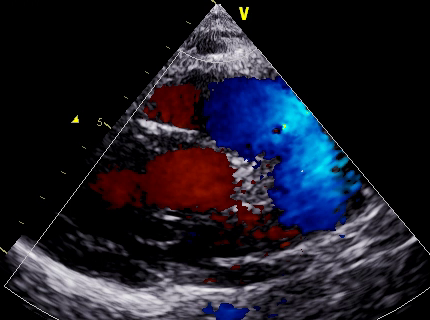AR: (147, 140, 256, 219)
